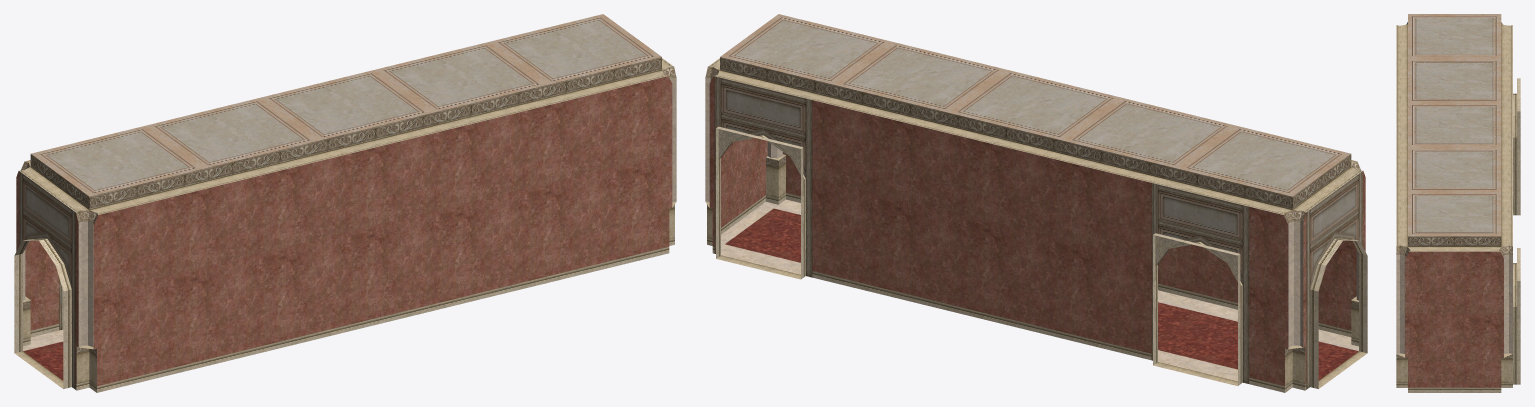
Rendered from ply_nboo_house_lg_s01_fp1_r8_hall3_mesh_r8.fbx.
3 renders of one model, left to right at view 1: azimuth 30°, elevation 25°; view 2: azimuth 150°, elevation 25°; view 3: azimuth 270°, elevation 25°, orthographic. The views are drawn at different scales.
Parts seen in each view (by area): view 1: mesh_node; view 2: mesh_node; view 3: mesh_node.
Boxes of the visible parts, x1,y1,x2,y2 form: mesh_node: [14, 14, 676, 392]; mesh_node: [705, 14, 1367, 392]; mesh_node: [1396, 14, 1520, 392].
Size of the model in its own units: 14.3 by 4.3 by 3.2.
